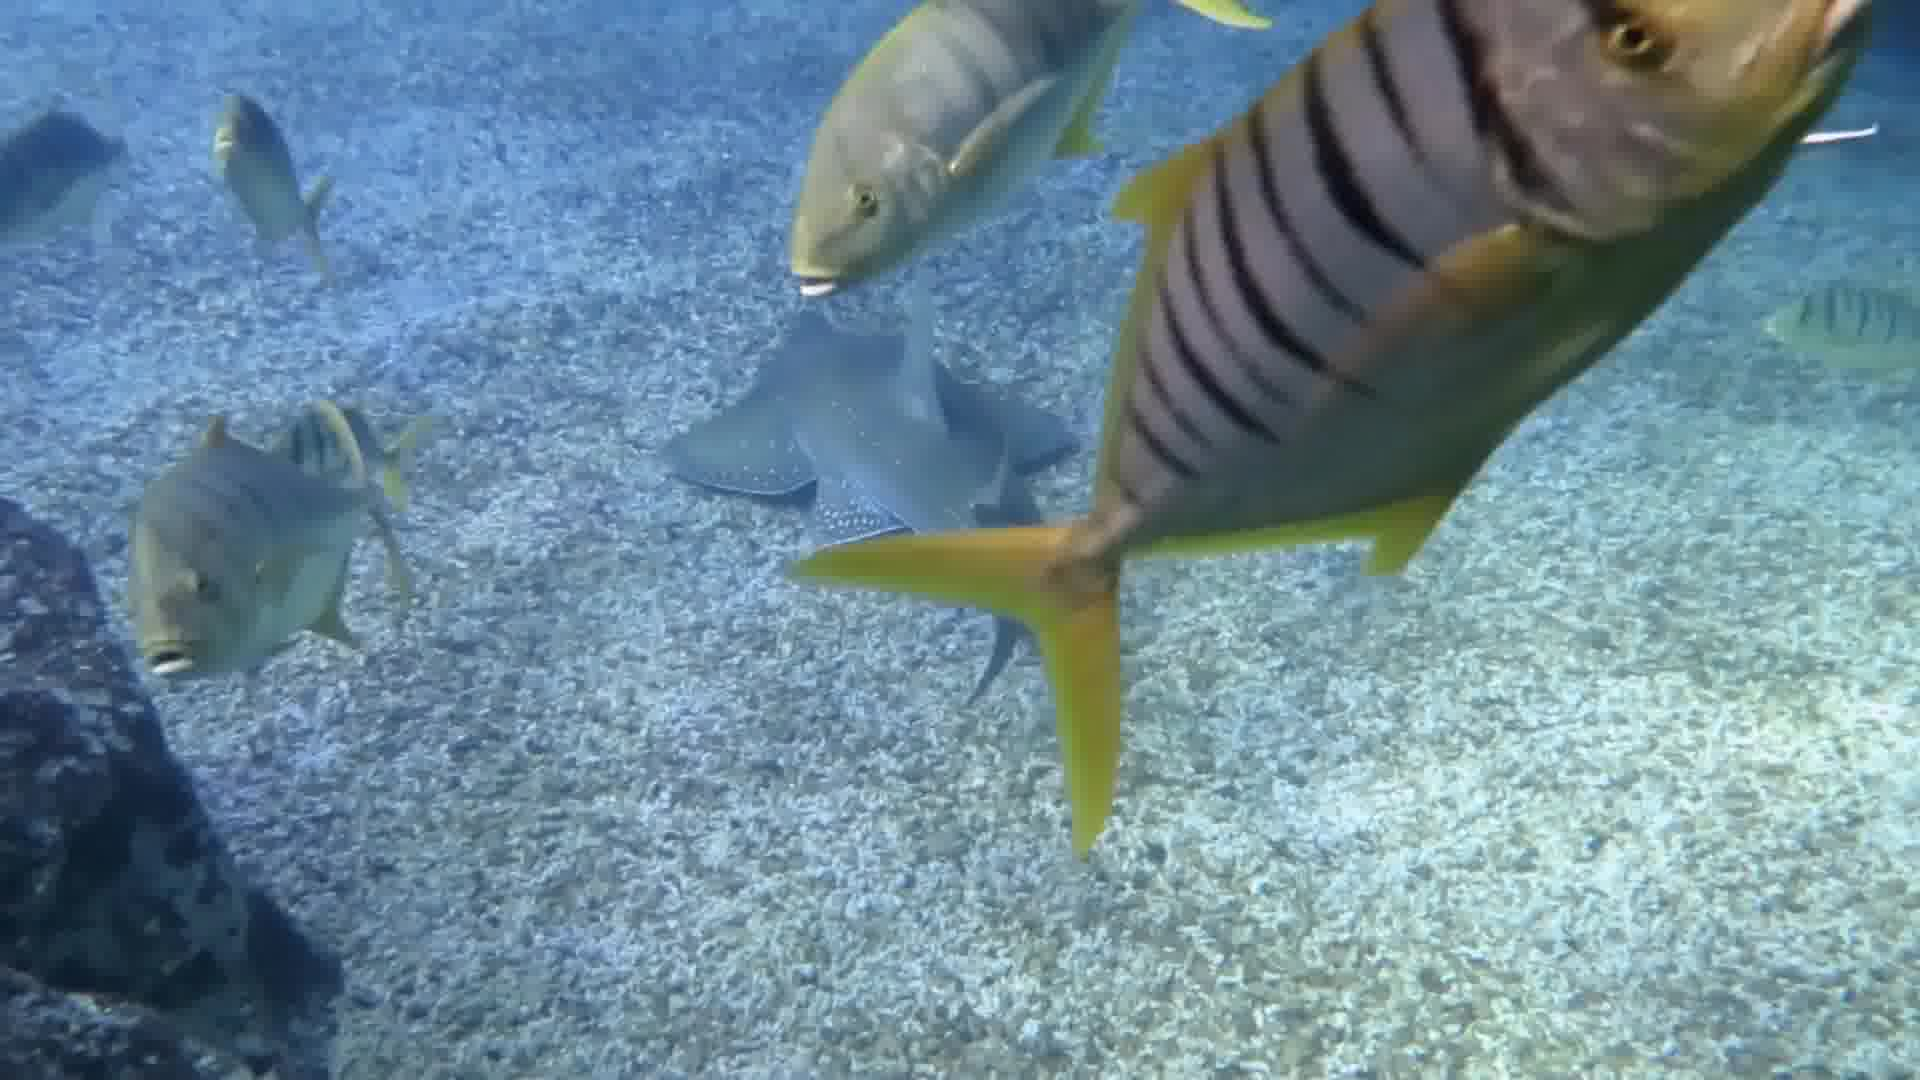Rhychobatus djiddensis: (686, 307, 1015, 585)
